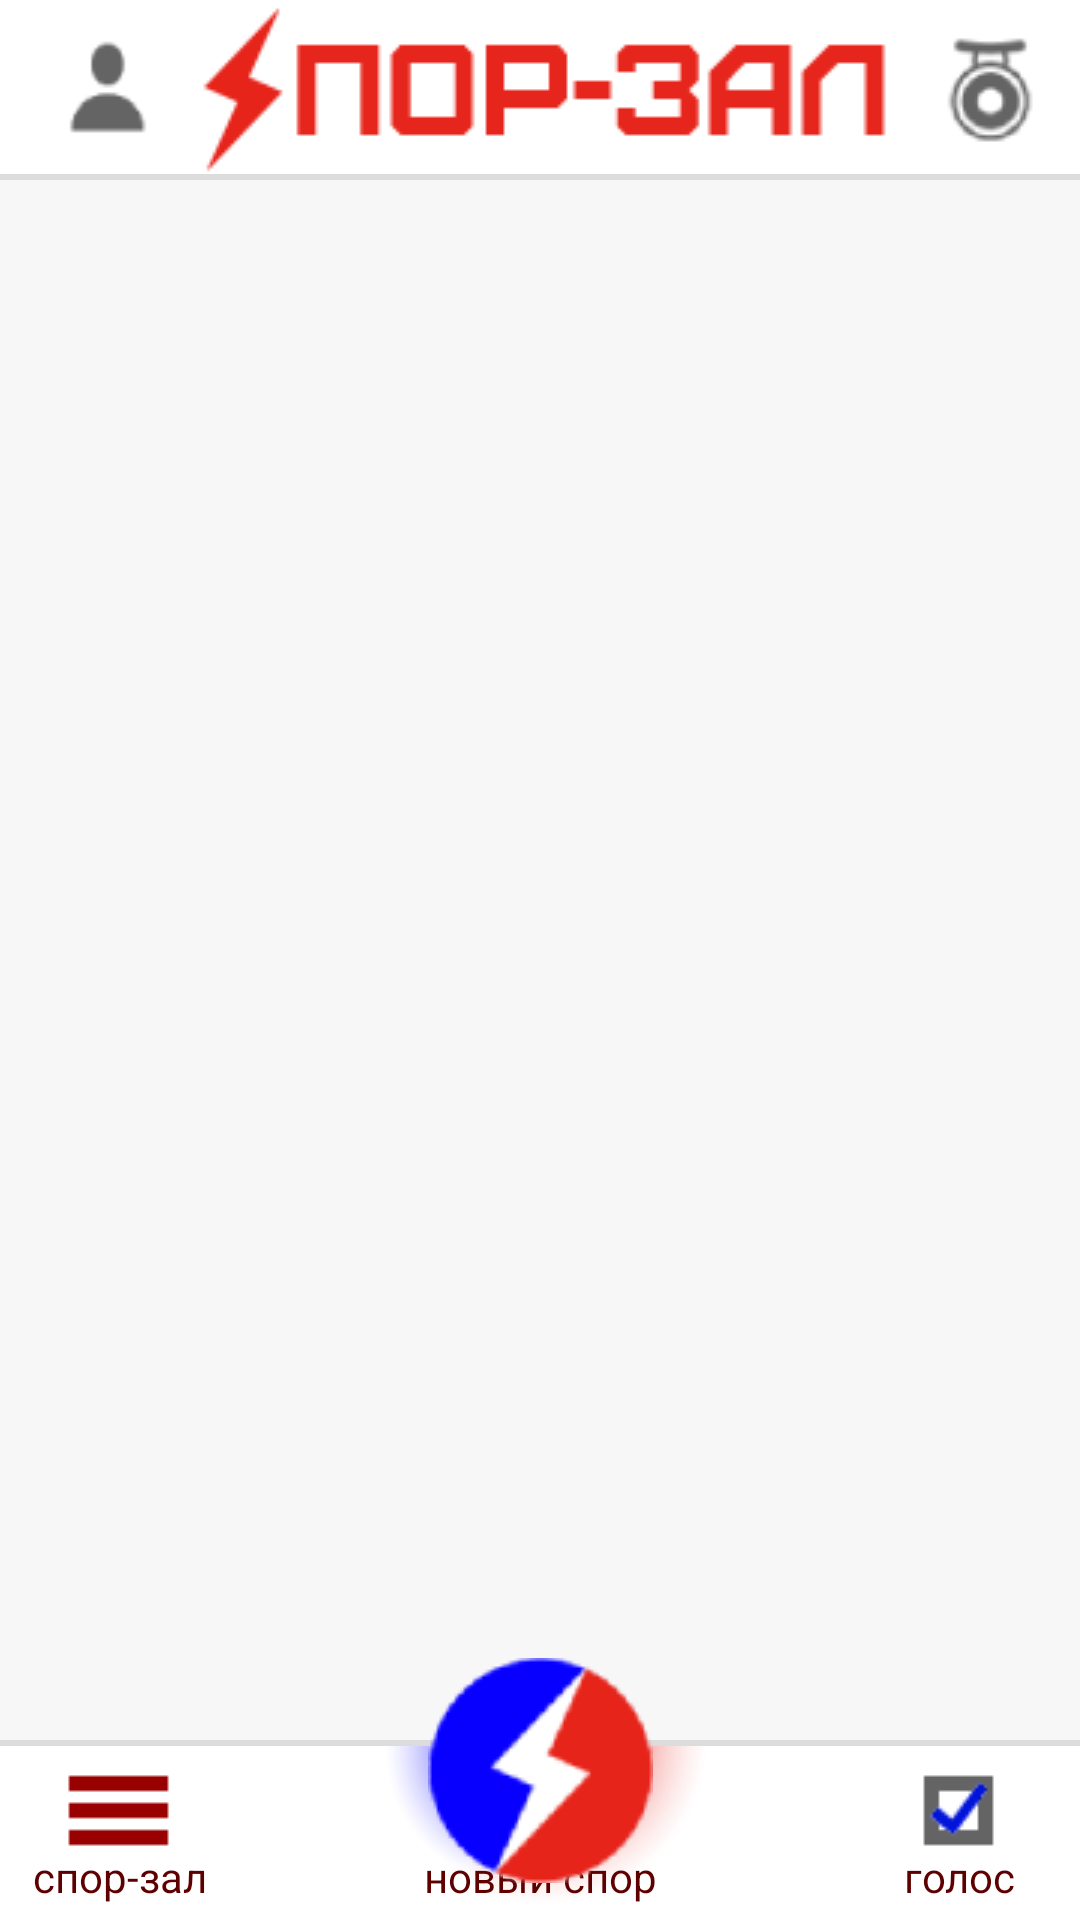

Named icons in this screenshot (1080x1920) and their bounding boxes, (x1, y1, x2, y2):
gong: (949, 39, 1031, 141)
user page: (70, 42, 145, 132)
